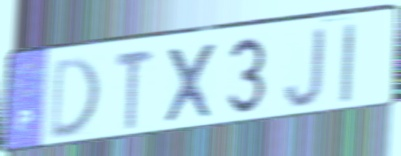3: (222, 32, 271, 121)
D: (47, 53, 103, 144)
I: (338, 20, 358, 106)
J: (281, 24, 328, 111)
T: (113, 48, 156, 133)
X: (161, 39, 219, 127)
